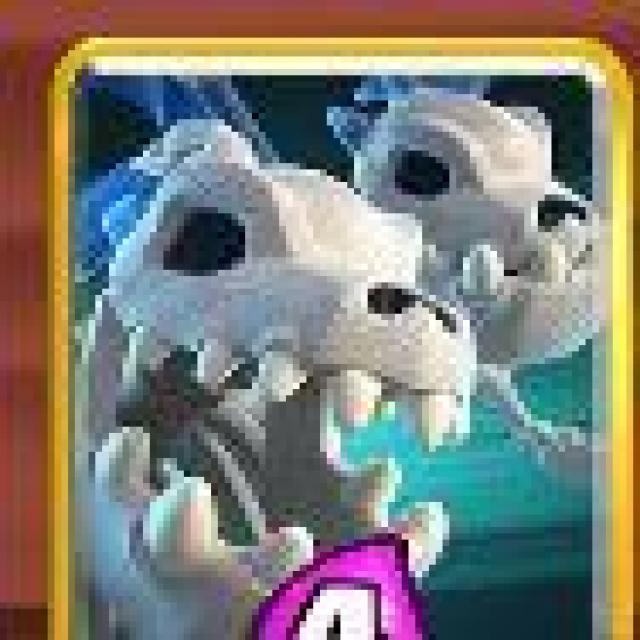Skeleton_Dragons: (56, 44, 636, 640)
